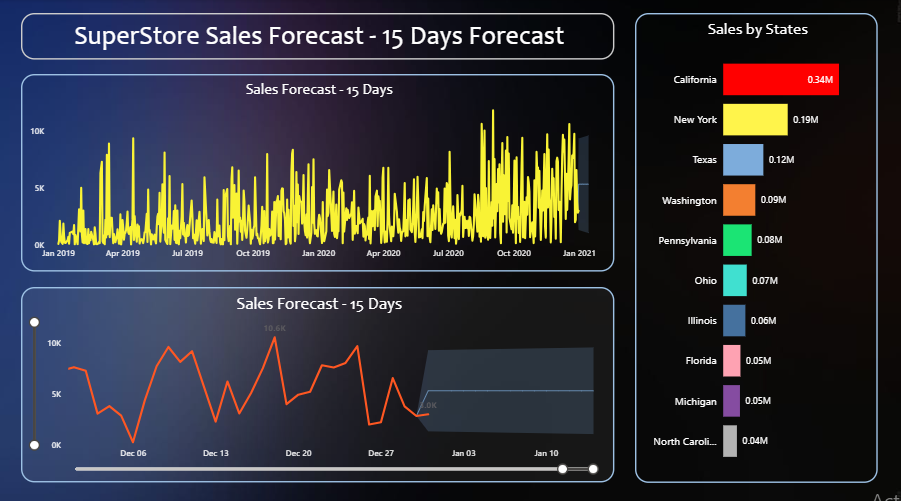

The dashboard page shown, as its layout file describes it:
{"tool":"powerbi","page":{"name":"Sales Forecast 15 Days","canvas":[1280,720],"ordinal":1},"visuals":[{"type":"lineChart","title":" Sales Forecast - 15 Days","fields":{"Y":["Sum(SuperStore_Sales_Dataset.Sales)"],"Category":["SuperStore_Sales_Dataset.Order Date"]},"box":[32.9,408.6,841.4,277.1],"z":0},{"type":"lineChart","title":"Sales Forecast - 15 Days","fields":{"Y":["Sum(SuperStore_Sales_Dataset.Sales)"],"Category":["SuperStore_Sales_Dataset.Order Date"]},"box":[32.9,105.7,841.4,280],"z":1000},{"type":"barChart","title":"Sales by States","fields":{"Y":["Sum(SuperStore_Sales_Dataset.Sales)"],"Category":["SuperStore_Sales_Dataset.State"]},"box":[902.9,20,344.3,665.7],"z":2000},{"type":"textbox","title":"SuperStore Sales Forecast - 15 Days Forecast","box":[32.9,20,841.4,65.7],"z":3000}]}

Visuals, with their boxes in screenshot pixels (x1, y1, x2, y2), scaled from the page's 1280x720 canvas onto the 901x501 screenshot:
" Sales Forecast - 15 Days" lineChart: 23 284 615 477
"Sales Forecast - 15 Days" lineChart: 23 74 615 268
"Sales by States" barChart: 636 14 878 477
"SuperStore Sales Forecast - 15 Days Forecast" textbox: 23 14 615 60
